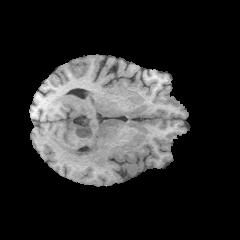glioma: (51, 91, 108, 164)
